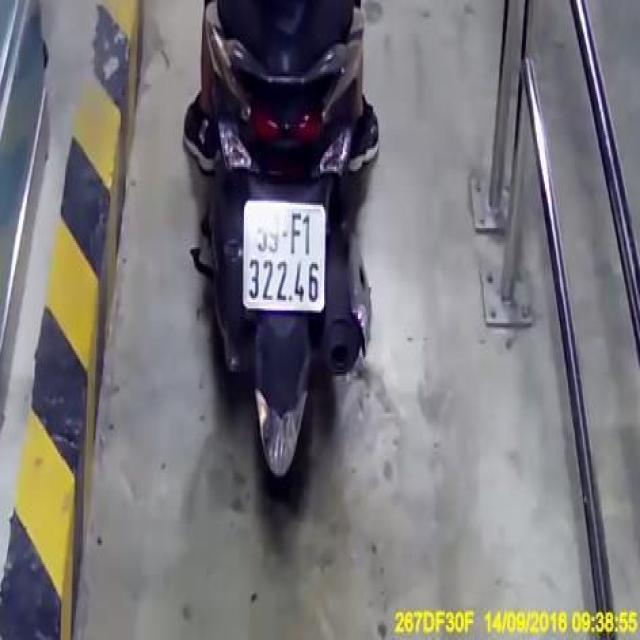bien_so: (241, 194, 327, 315)
